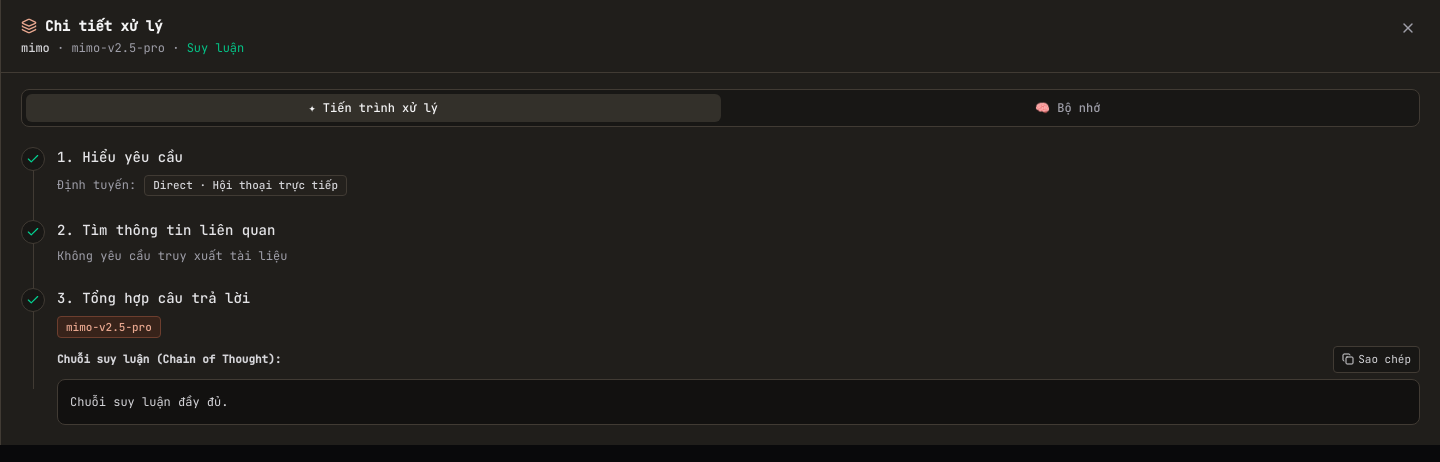
Test: ExecutionTraceDrawer › copies the chain of thought from the synthesis step
Click the button with aria-label "Sao chép chuỗi suy luận": (1377, 359) [1333,346,1420,373]
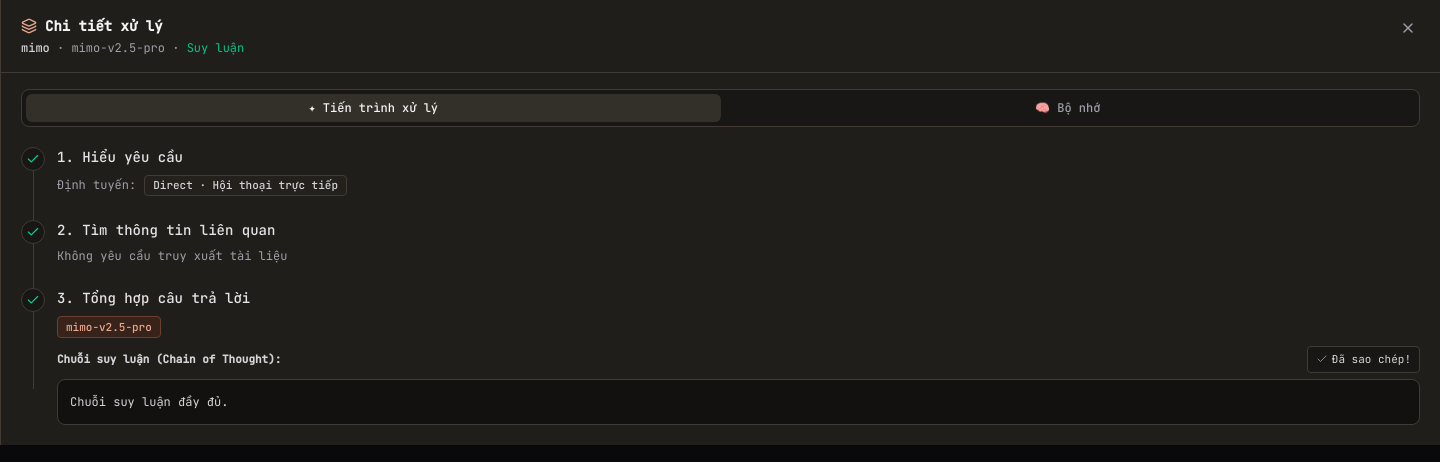
expect the button "Đã sao chép!" is shown: met, box [1307,346,1420,373]
